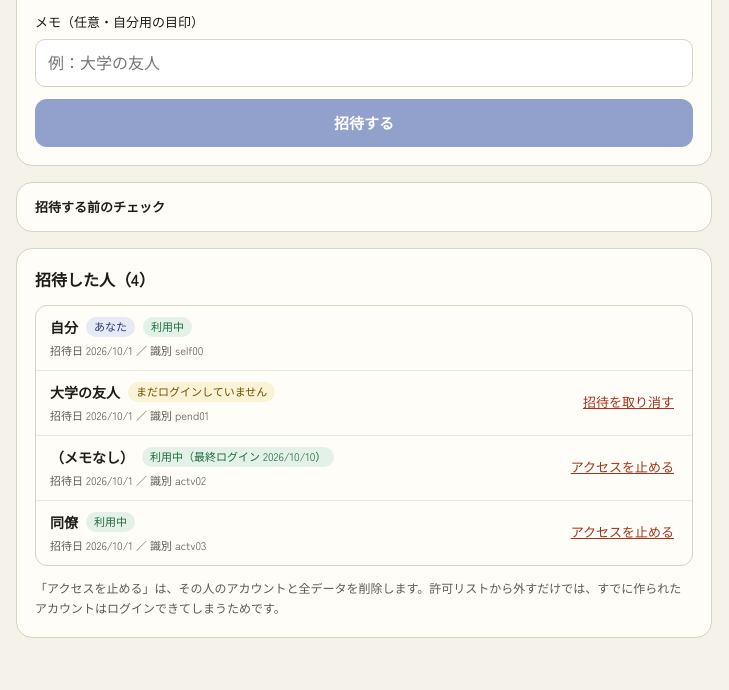
it: InvitesScreen: 一覧 › アクセスを止めるとアカウントごと消す（メモがなければ識別子で確認）
(page scrolled)
Click the button "アクセスを止める" in the row of "（メモなし）" at (622,468), box [567, 446, 678, 490]
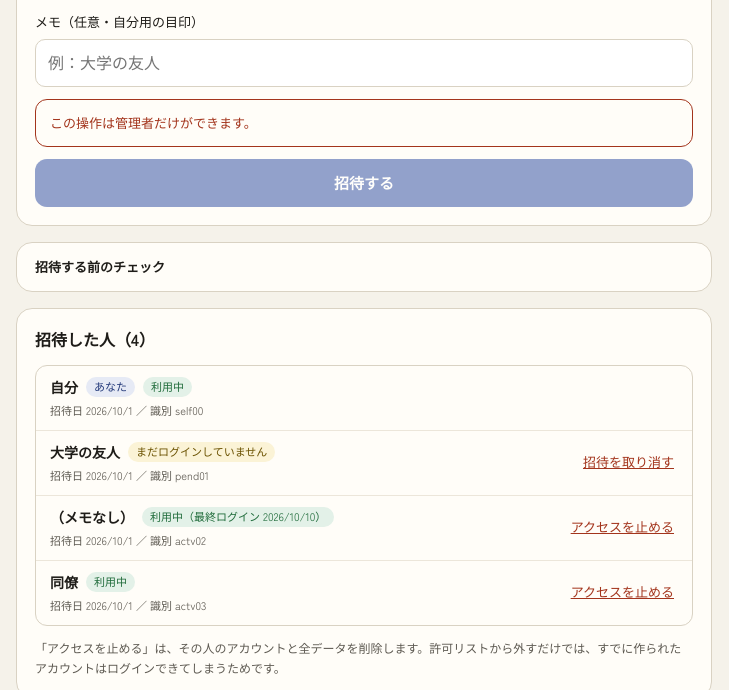
Check: the message reads "この操作は管理者だけができます。", box [50, 113, 257, 132]
